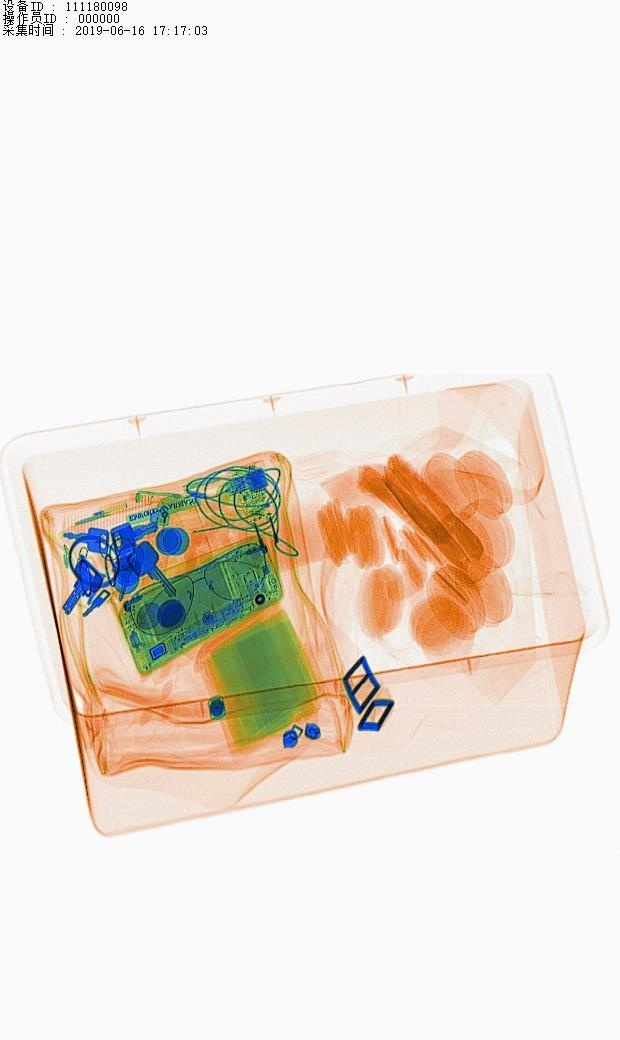NonmetallicFire: (130, 489, 186, 592)
